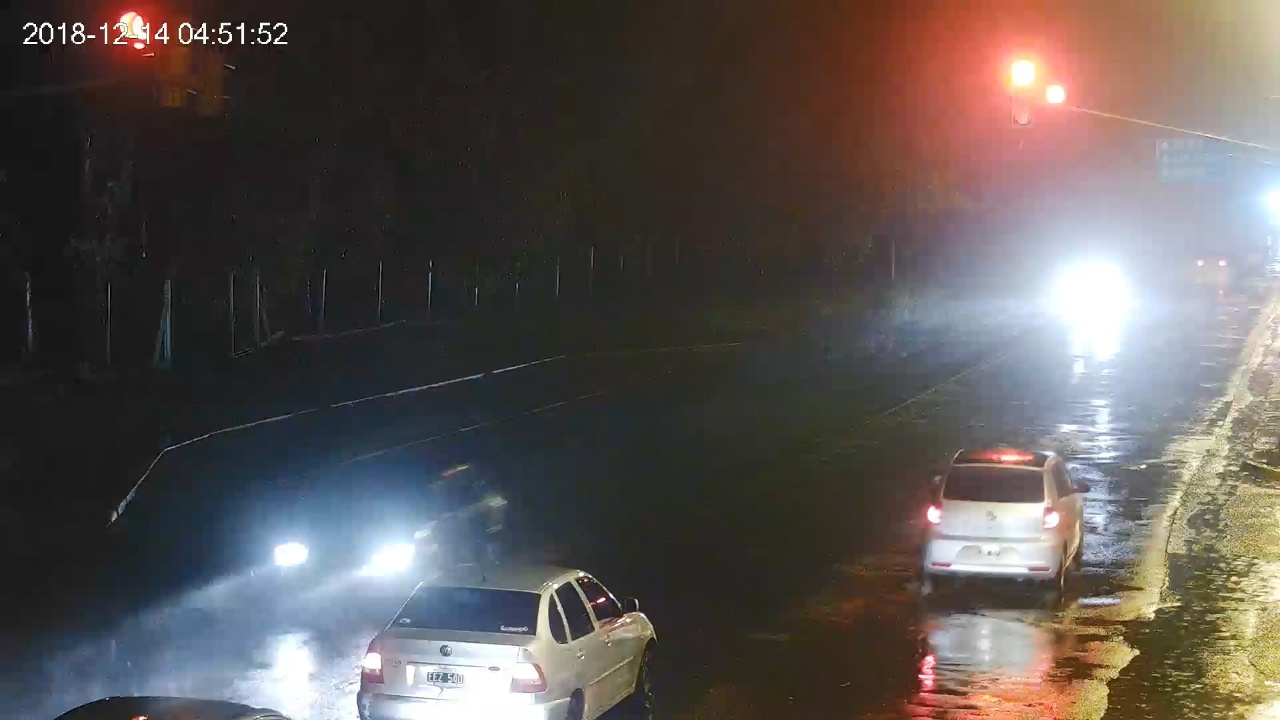car: (358, 561, 657, 720), (921, 448, 1090, 590)
traffic light: (1012, 61, 1034, 127)
